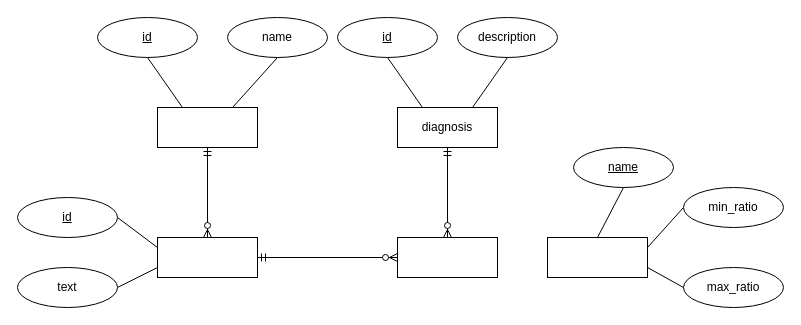
Some shapes in this 801 by 325 pixel diagram are drawn without their labels. The centre of each missing label's shape, as x and y in pixels:
inpatient_level: [597,257]
institution: [207,257]
region: [207,127]
source_record: [447,257]
